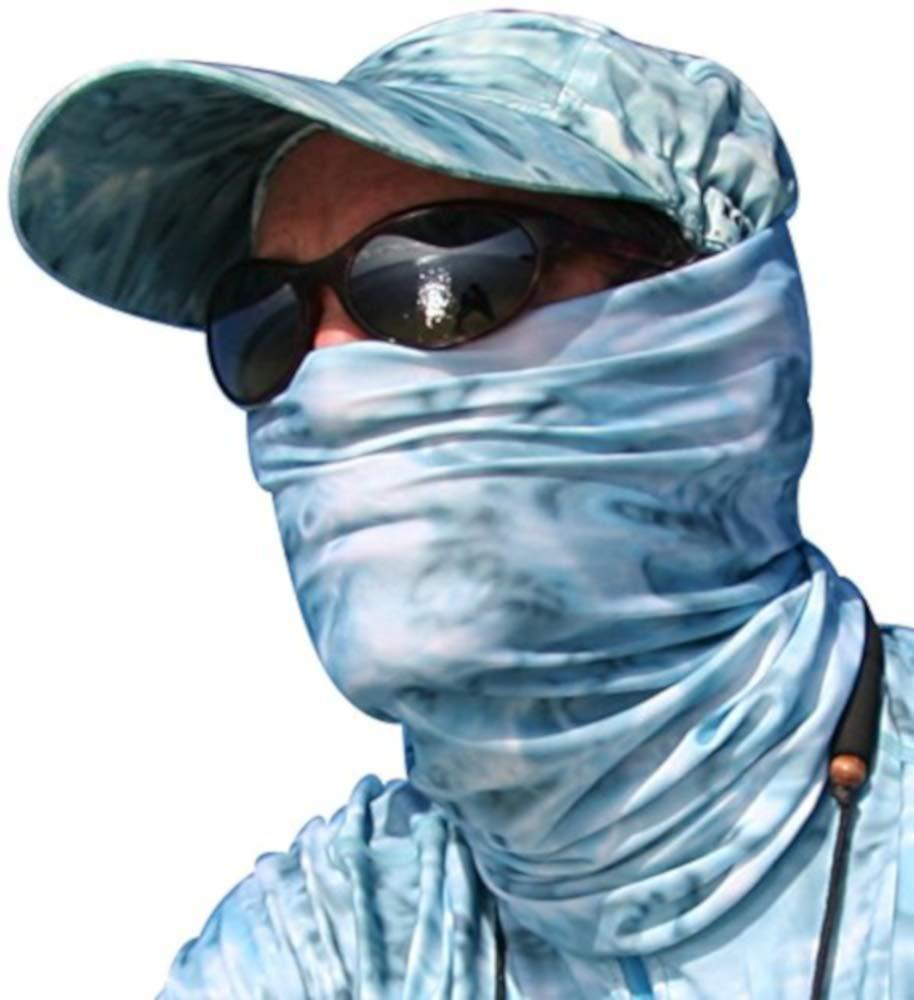cap: (0, 3, 818, 278)
scarf-kerchief: (120, 258, 875, 765)
sunglasses: (190, 193, 605, 428)
